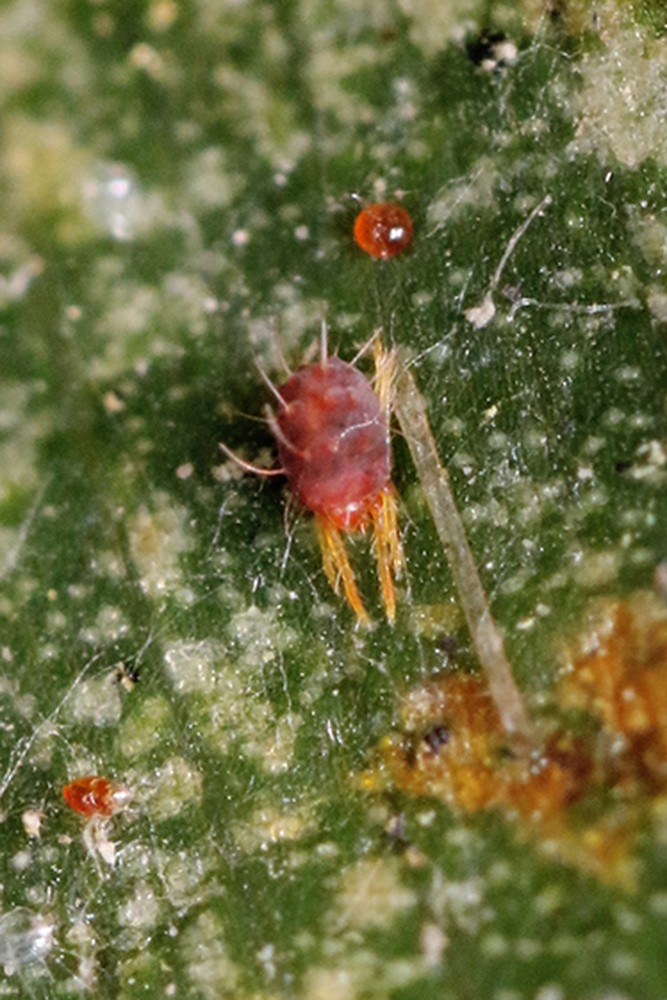Aracnido Rojo: (195, 307, 448, 665)
